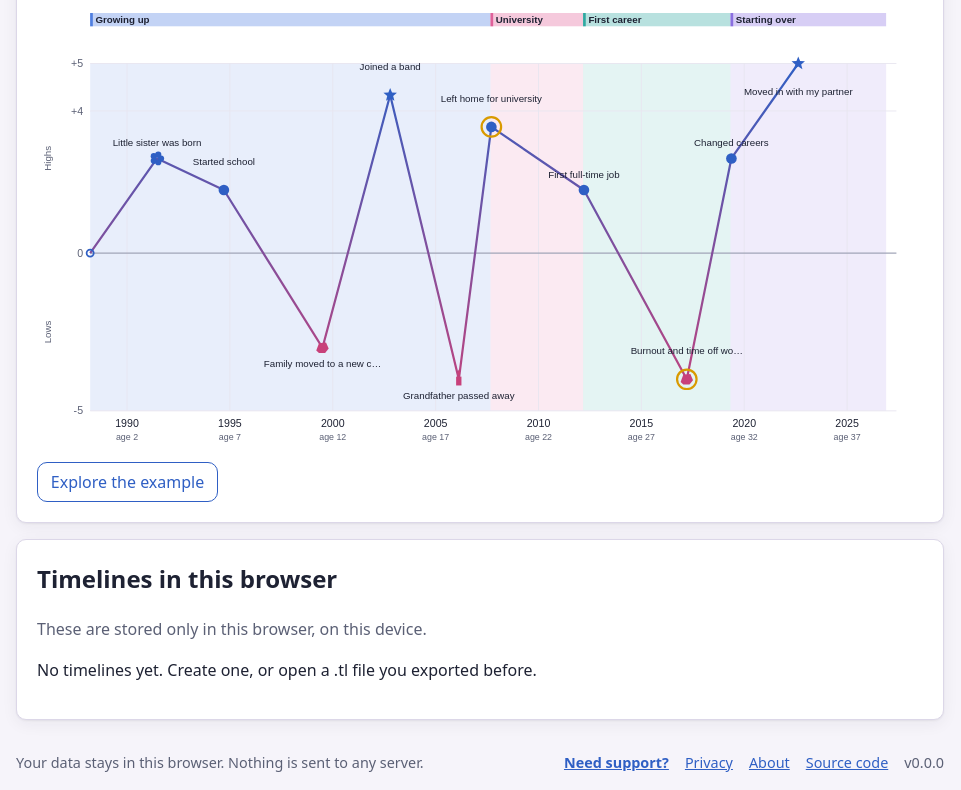
it: About page › can switch directly between Privacy and About
This screenshot has width=961, height=790.
(page scrolled)
Step 1. Click the button "Privacy" → (709, 763), box x1=685 y1=752 x2=733 y2=774
(page scrolled)
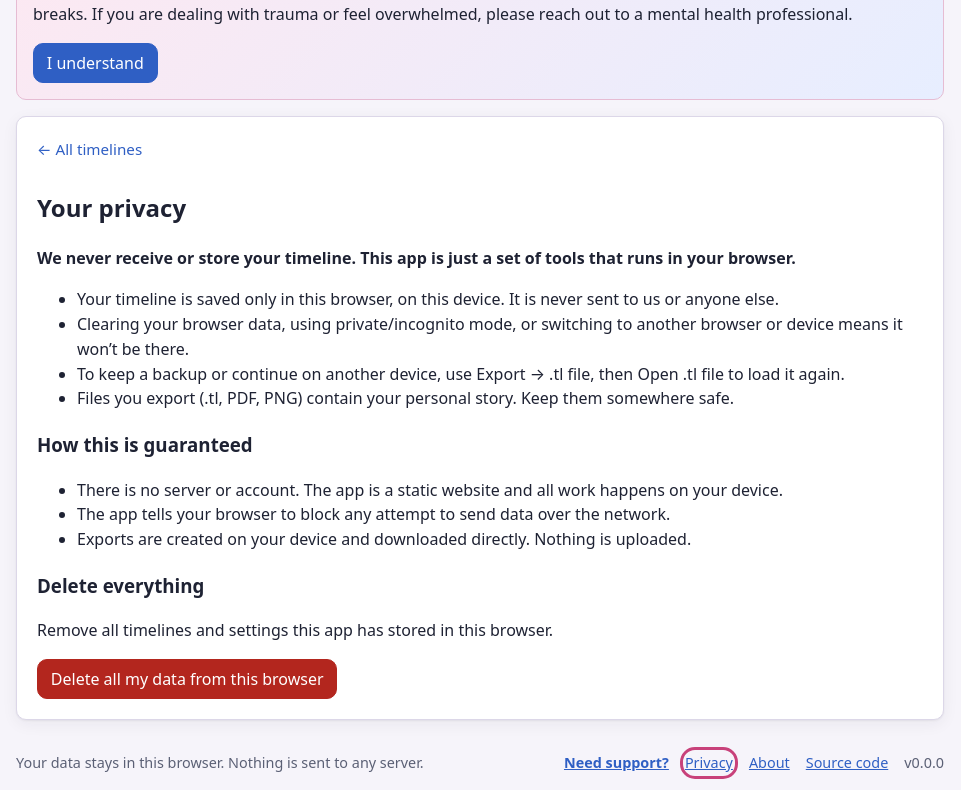
Step 2. Click the button "About" → (769, 763), box x1=749 y1=752 x2=790 y2=774
(page scrolled)
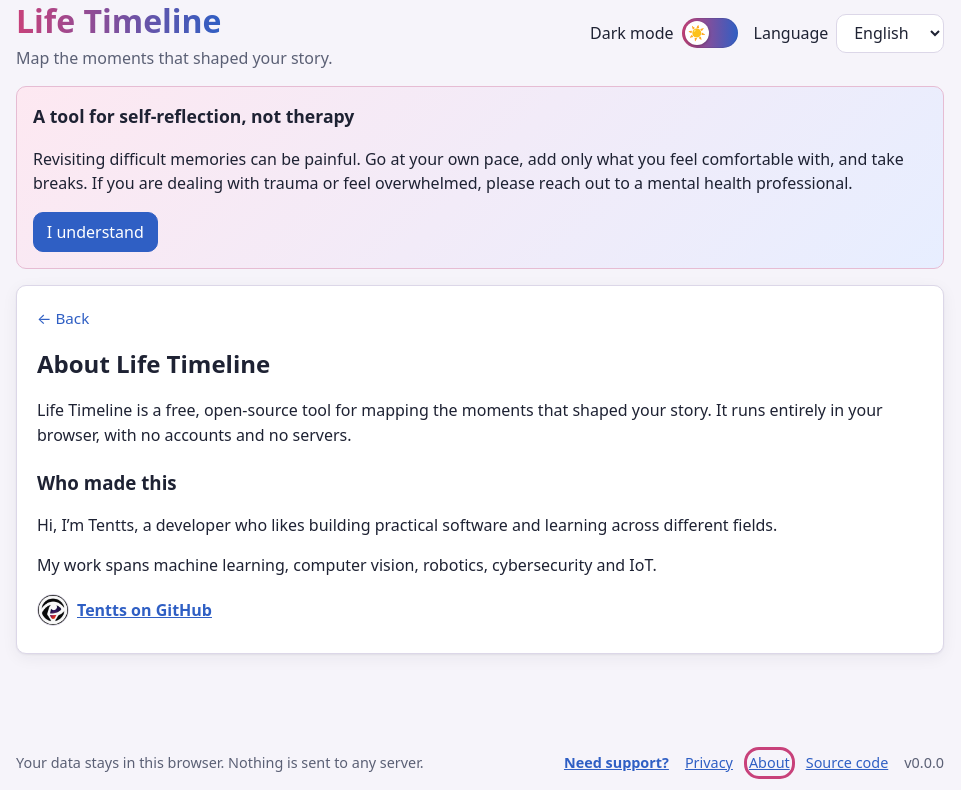
Expected: the heading "About Life Timeline" is shown, x1=37 y1=347 x2=270 y2=380
Expected: the heading "Your privacy" is gone
